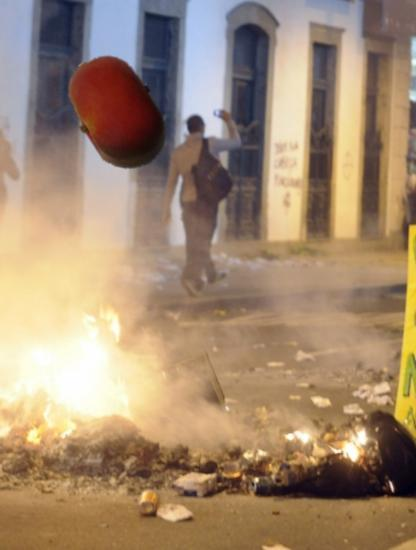Nectarine: (56, 52, 178, 174)
